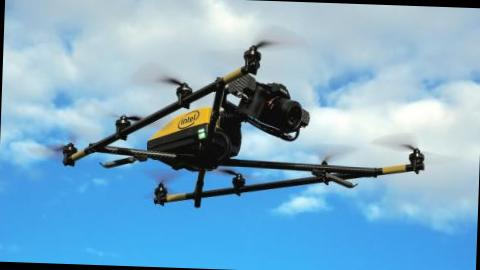drone: (59, 44, 432, 228)
